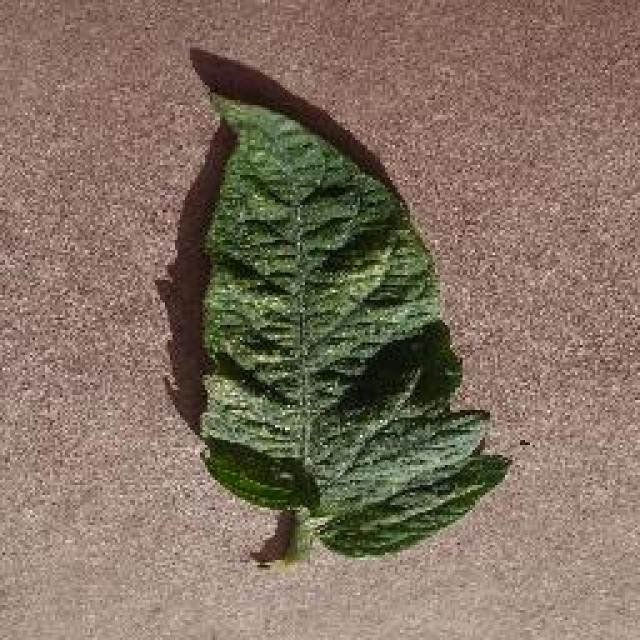Tom_Spider_mites Two-spotted_spider_mite: (219, 180, 425, 426)
